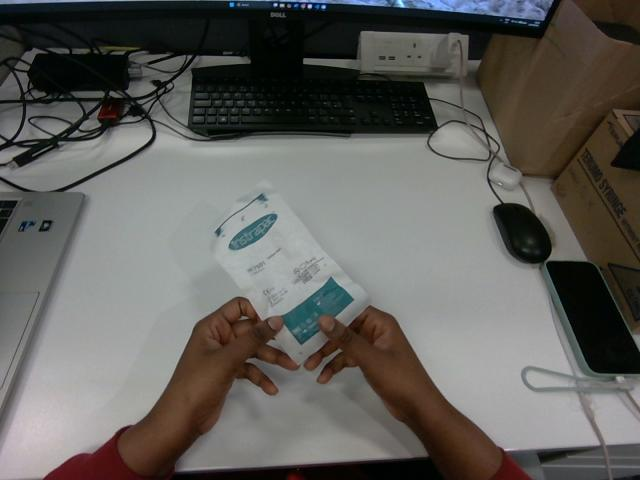gallipot: (213, 181, 368, 363)
